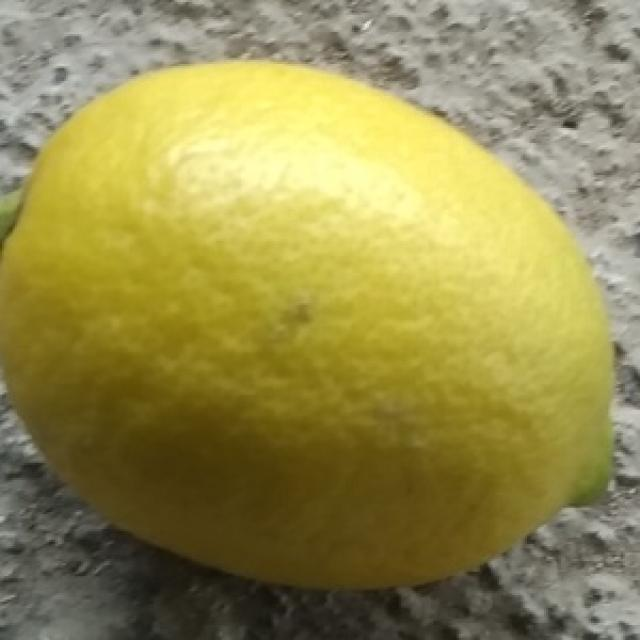Ripe: (0, 56, 640, 595)
